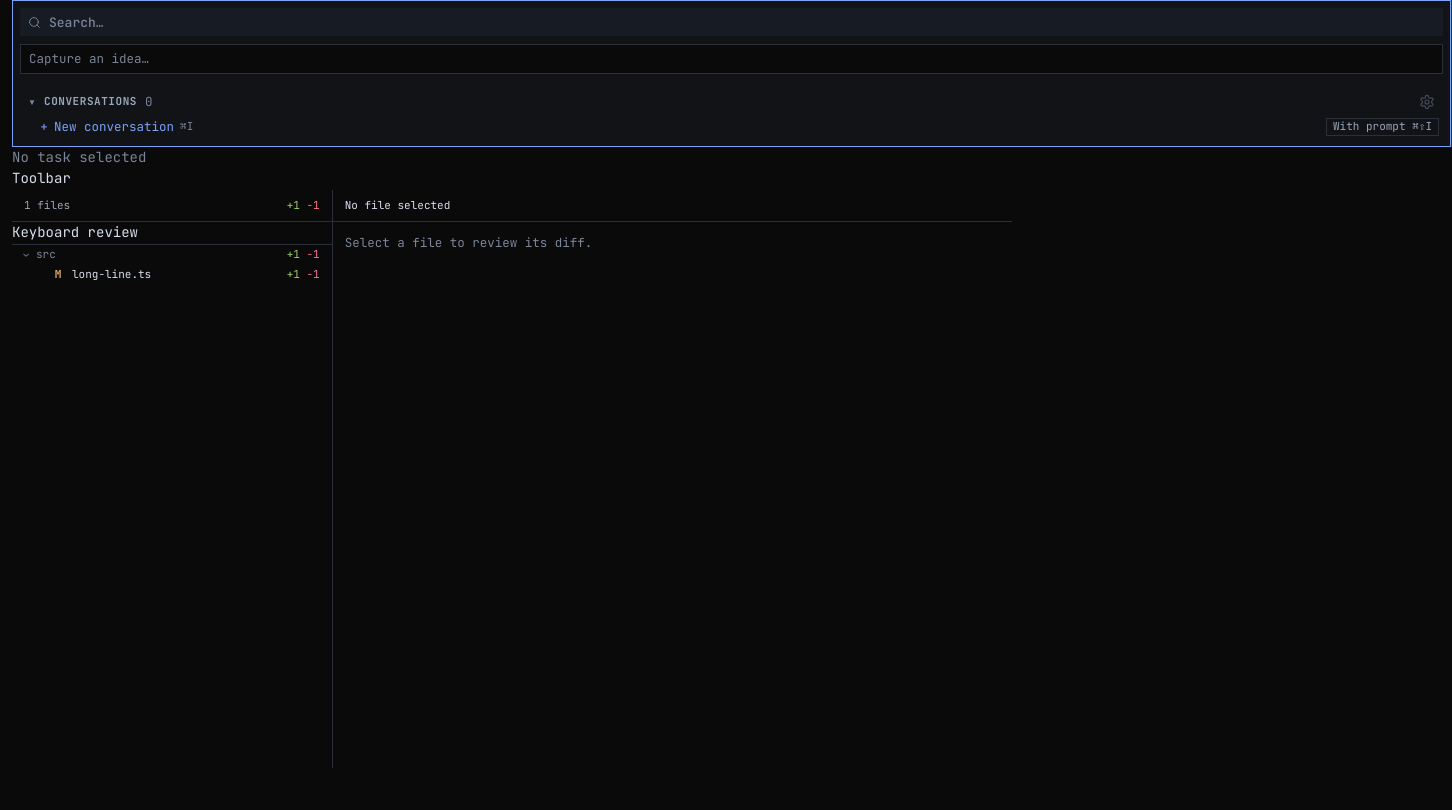
Test: overhaul acceptance - Changes diff keyboard reading › [overhaul-346] keeps the named region stable for binary diff content
This screenshot has width=1452, height=810.
Click the button with aria-label "src/long-line.ts" at (112, 274), box [12, 265, 332, 285]
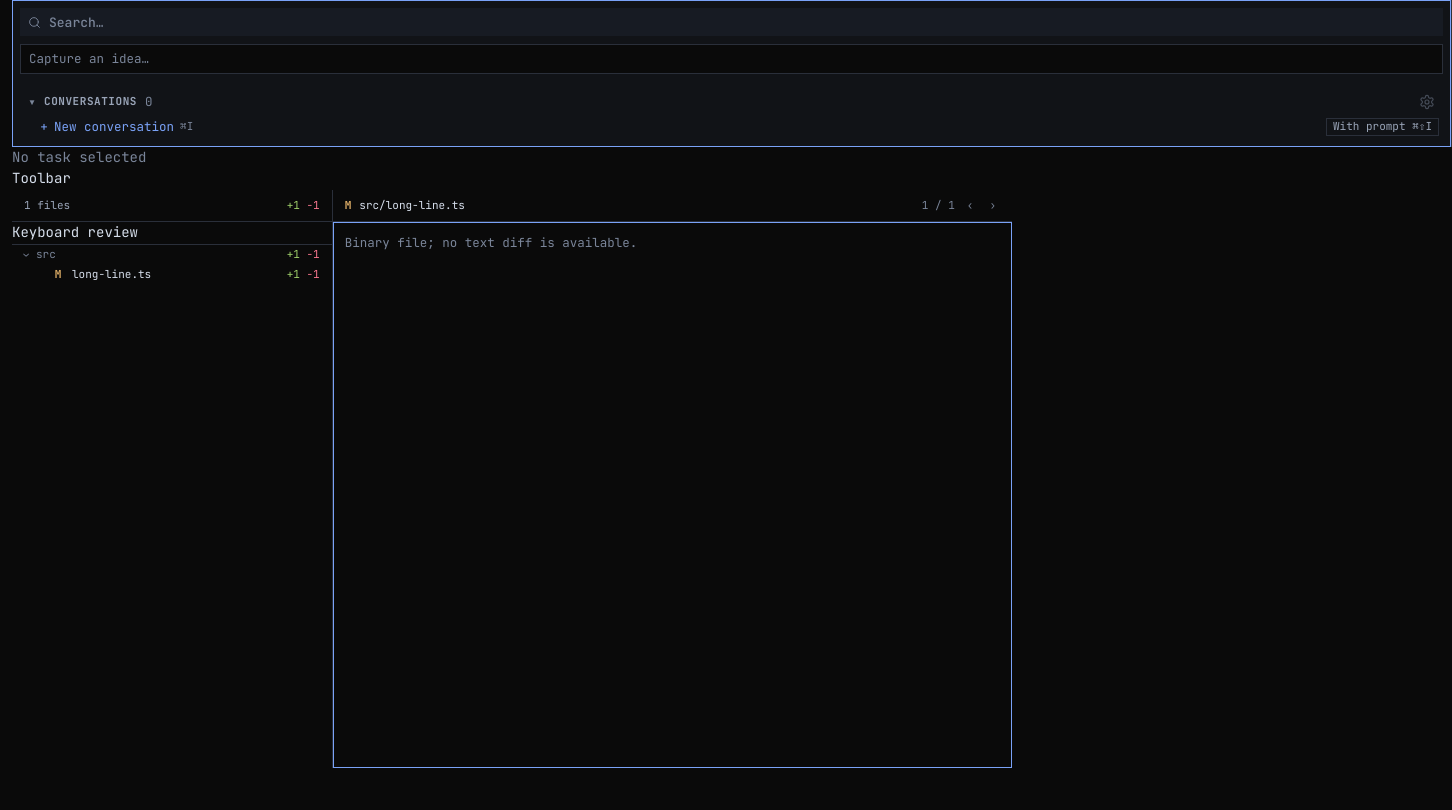
Expected: the text "Binary file; no text diff is available." is shown, [345, 234, 637, 251]
